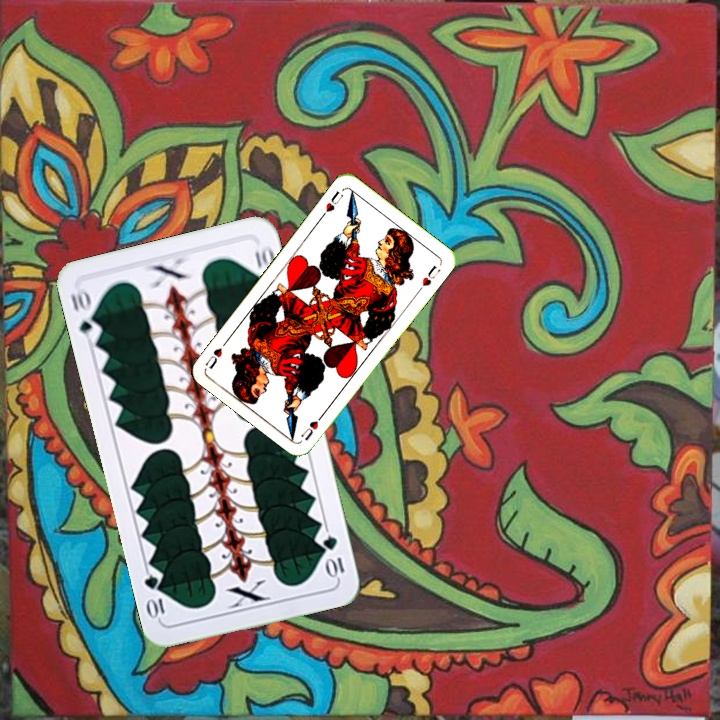G10: (67, 283, 104, 344), (319, 531, 347, 581)
HU: (297, 409, 327, 443), (317, 186, 346, 220)
